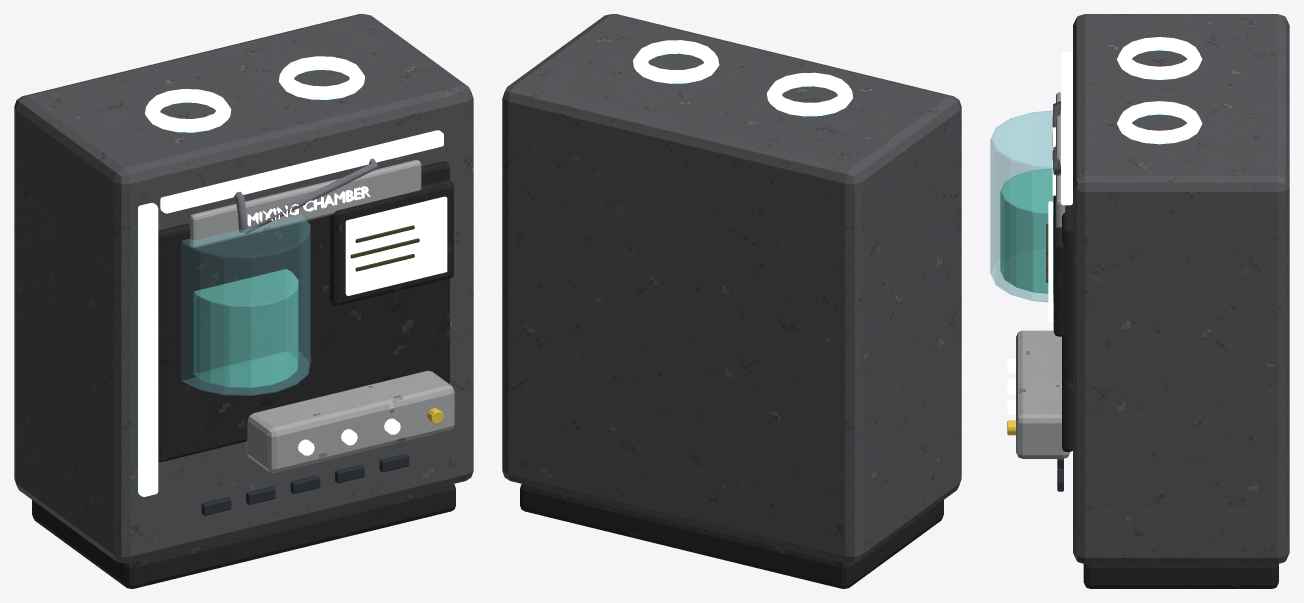
Rendered from machine_mixing_chamber.glb.
3 renders of one model, left to right at view 1: azimuth 30°, elevation 25°; view 2: azimuth 150°, elevation 25°; view 3: azimuth 270°, elevation 25°, orthographic.
Visible parts, largest first — view 1: MCH_MixingChamber__Main_Casing, MCH_MixingChamber__Front_Service_Panel, MCH_MixingChamber__Buffer_Vessel_Glass, MCH_MixingChamber__Packaging_Drawer, MCH_MixingChamber__Buffer_Vessel_Liquid, MCH_MixingChamber__Plinth, MCH_MixingChamber__Buffer_Screen_Glow, MCH_MixingChamber__Title_Plate, MCH_MixingChamber__Accent_Rail_Left, MCH_MixingChamber__Accent_Rail_Top, MCH_MixingChamber__Buffer_Screen_Bezel, MCH_MixingChamber__Dock_Ring_B (+3 smaller); view 2: MCH_MixingChamber__Main_Casing, MCH_MixingChamber__Plinth, MCH_MixingChamber__Dock_Ring_A, MCH_MixingChamber__Dock_Ring_B; view 3: MCH_MixingChamber__Main_Casing, MCH_MixingChamber__Buffer_Vessel_Glass, MCH_MixingChamber__Packaging_Drawer, MCH_MixingChamber__Buffer_Vessel_Liquid, MCH_MixingChamber__Plinth, MCH_MixingChamber__Front_Service_Panel, MCH_MixingChamber__Dock_Ring_B, MCH_MixingChamber__Dock_Ring_A, MCH_MixingChamber__Accent_Rail_Top, MCH_MixingChamber__Buffer_Screen_Bezel, MCH_MixingChamber__Buffer_Screen_Glow, MCH_MixingChamber__Title_Plate.
Part boxes in pixels (x1,y1,x2,y2): MCH_MixingChamber__Main_Casing: [14, 14, 473, 563]; MCH_MixingChamber__Front_Service_Panel: [158, 161, 449, 462]; MCH_MixingChamber__Buffer_Vessel_Glass: [181, 215, 310, 395]; MCH_MixingChamber__Packaging_Drawer: [246, 370, 454, 472]; MCH_MixingChamber__Buffer_Vessel_Liquid: [193, 269, 298, 387]; MCH_MixingChamber__Plinth: [32, 484, 455, 588]; MCH_MixingChamber__Buffer_Screen_Glow: [345, 196, 447, 295]; MCH_MixingChamber__Title_Plate: [189, 160, 421, 247]; MCH_MixingChamber__Accent_Rail_Left: [138, 203, 158, 496]; MCH_MixingChamber__Accent_Rail_Top: [160, 130, 443, 213]; MCH_MixingChamber__Buffer_Screen_Bezel: [330, 179, 453, 305]; MCH_MixingChamber__Dock_Ring_B: [278, 56, 365, 99]; MCH_MixingChamber__Main_Casing: [502, 14, 961, 563]; MCH_MixingChamber__Plinth: [520, 484, 943, 588]; MCH_MixingChamber__Dock_Ring_A: [766, 72, 853, 116]; MCH_MixingChamber__Dock_Ring_B: [633, 40, 719, 83]; MCH_MixingChamber__Main_Casing: [1073, 14, 1289, 564]; MCH_MixingChamber__Buffer_Vessel_Glass: [990, 110, 1053, 302]; MCH_MixingChamber__Packaging_Drawer: [1016, 330, 1070, 458]; MCH_MixingChamber__Buffer_Vessel_Liquid: [1000, 168, 1053, 293]; MCH_MixingChamber__Plinth: [1083, 564, 1278, 588]; MCH_MixingChamber__Front_Service_Panel: [1062, 203, 1072, 451]; MCH_MixingChamber__Dock_Ring_B: [1117, 101, 1202, 144]; MCH_MixingChamber__Dock_Ring_A: [1117, 37, 1202, 79]; MCH_MixingChamber__Accent_Rail_Top: [1061, 60, 1072, 205]; MCH_MixingChamber__Buffer_Screen_Bezel: [1053, 195, 1064, 336]; MCH_MixingChamber__Buffer_Screen_Glow: [1048, 201, 1052, 321]; MCH_MixingChamber__Title_Plate: [1056, 92, 1065, 227].
Size of the model in its own units: 1.5 by 1.74 by 1.11.
11 materials, 4 textured.
